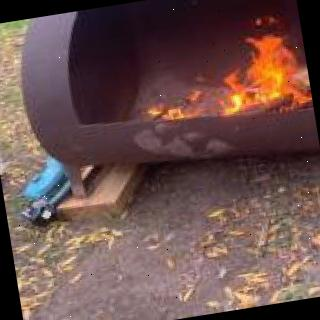fire: (166, 10, 315, 138)
